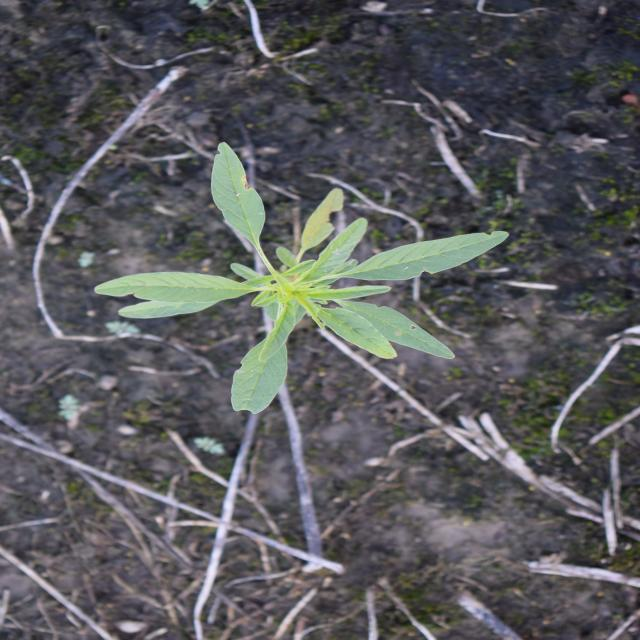Waterhemp: (89, 138, 512, 416)
